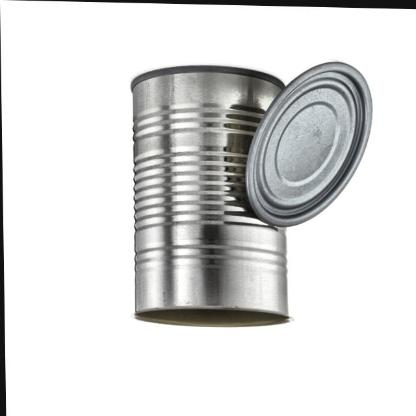Can: (122, 63, 294, 341)
